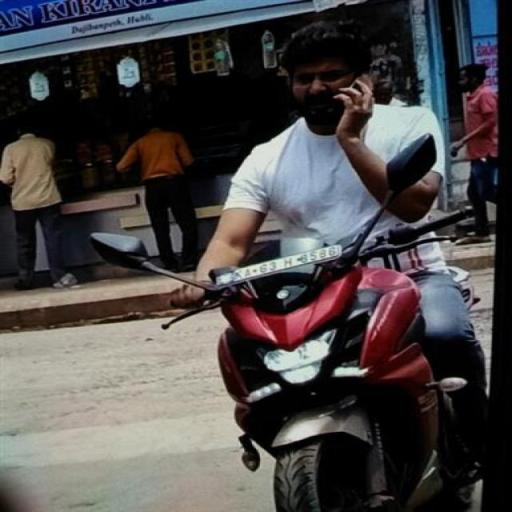using mobile: (336, 66, 386, 123)
